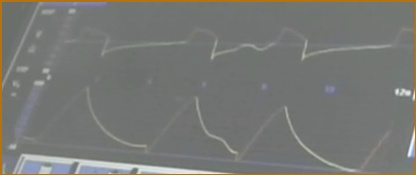Ineffective_effort Flow: (62, 16, 412, 70)
Ineffective_effort Volume: (23, 84, 389, 173)
